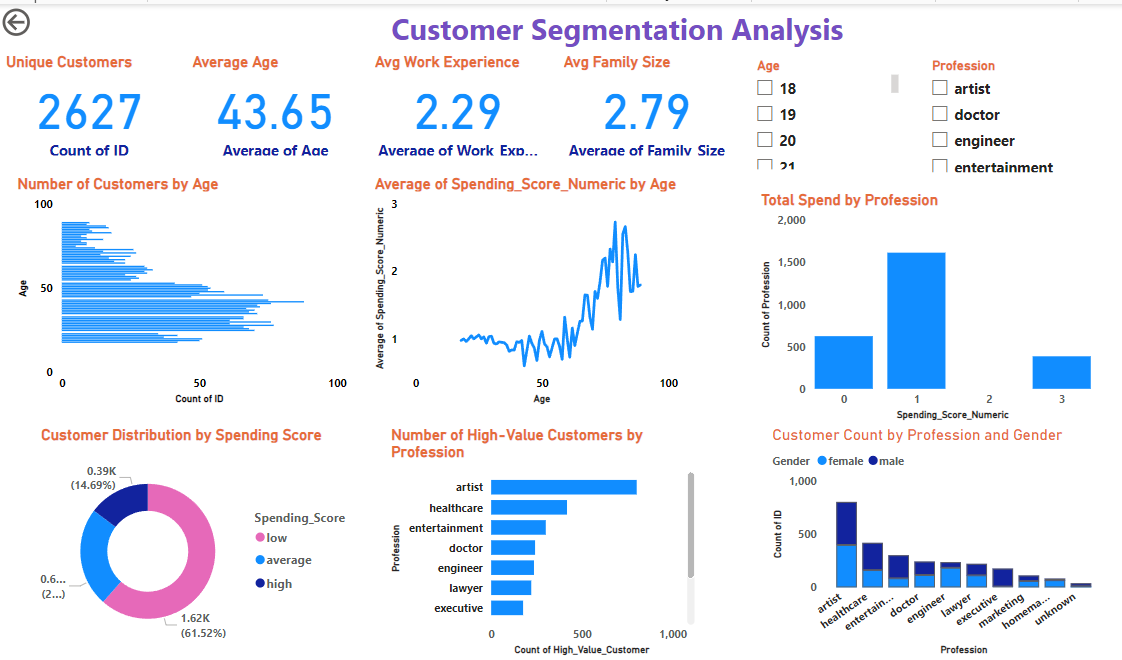

What the dashboard file says about the page in this screenshot:
{"tool":"powerbi","page":{"name":"Page 1","canvas":[1280,720],"ordinal":0},"visuals":[{"type":"card","title":"Unique Customers","fields":{"Values":["CountNonNull(Customer_Data.ID)"]},"box":[4.1,53.5,192.1,118],"z":0},{"type":"actionButton","box":[0,0,100,40],"z":1000},{"type":"card","title":"Average Age","fields":{"Values":["Avg(Customer_Data.Age)"]},"box":[208.6,53.5,192.1,118],"z":2000},{"type":"card","title":"Avg Work Experience","fields":{"Values":["Avg(Customer_Data.Work_Experience)"]},"box":[408.9,53.5,192.1,118],"z":3000},{"type":"card","title":"Avg Family Size","fields":{"Values":["Avg(Customer_Data.Family_Size)"]},"box":[616.1,53.5,192.1,118],"z":4000},{"type":"clusteredBarChart","title":"Number of Customers by Age","fields":{"Category":["Customer_Data.Age"],"Y":["CountNonNull(Customer_Data.ID)"]},"box":[16.5,186.6,371.9,258],"z":5000},{"type":"lineChart","fields":{"Category":["Customer_Data.Age"],"Y":["Avg(Customer_Data.Spending_Score_Numeric)"]},"box":[408.9,186.6,343.1,258],"z":6000},{"type":"columnChart","title":"Total Spend by Profession","fields":{"Y":["CountNonNull(Customer_Data.Profession)"],"Category":["Customer_Data.Spending_Score_Numeric"]},"box":[832.9,204.5,371.9,258],"z":7000},{"type":"donutChart","title":"Customer Distribution by Spending Score","fields":{"Category":["Customer_Data.Spending_Score"],"Y":["CountNonNull(Customer_Data.ID)"]},"box":[42.5,462.4,358.1,258],"z":8000},{"type":"barChart","title":"Number of High-Value Customers by Profession","fields":{"Category":["Customer_Data.Profession"],"Y":["CountNonNull(Customer_Data.High_Value_Customer)"]},"box":[426.8,462.4,343.1,258],"z":9000},{"type":"columnChart","title":"Customer Count by Profession and Gender","fields":{"Series":["Customer_Data.Gender"],"Y":["CountNonNull(Customer_Data.ID)"],"Category":["Customer_Data.Profession"]},"box":[845.3,462.4,371.9,258],"z":10000},{"type":"slicer","fields":{"Values":["Customer_Data.Age"]},"box":[820.6,53.5,172.9,133.1],"z":11000},{"type":"slicer","fields":{"Values":["Customer_Data.Profession"]},"box":[1012.7,53.5,247,135.8],"z":12000},{"type":"textbox","box":[426.8,0,585.9,53.5],"z":13000}]}

Visuals, with their boxes on the page's 1280x720 design canvas (x1, y1, x2, y2). These are canvas units, not pixel positions in the 1122x660 screenshot, which may show the page scaled, cropped or inside an application window:
"Unique Customers" card: x1=4 y1=54 x2=196 y2=172
actionButton: x1=0 y1=0 x2=100 y2=40
"Average Age" card: x1=209 y1=54 x2=401 y2=172
"Avg Work Experience" card: x1=409 y1=54 x2=601 y2=172
"Avg Family Size" card: x1=616 y1=54 x2=808 y2=172
"Number of Customers by Age" clusteredBarChart: x1=16 y1=187 x2=388 y2=445
lineChart - Customer_Data.Age x Avg(Customer_Data.Spending_Score_Numeric): x1=409 y1=187 x2=752 y2=445
"Total Spend by Profession" columnChart: x1=833 y1=204 x2=1205 y2=462
"Customer Distribution by Spending Score" donutChart: x1=42 y1=462 x2=401 y2=720
"Number of High-Value Customers by Profession" barChart: x1=427 y1=462 x2=770 y2=720
"Customer Count by Profession and Gender" columnChart: x1=845 y1=462 x2=1217 y2=720
slicer - Customer_Data.Age: x1=821 y1=54 x2=994 y2=187
slicer - Customer_Data.Profession: x1=1013 y1=54 x2=1260 y2=189
textbox: x1=427 y1=0 x2=1013 y2=54
